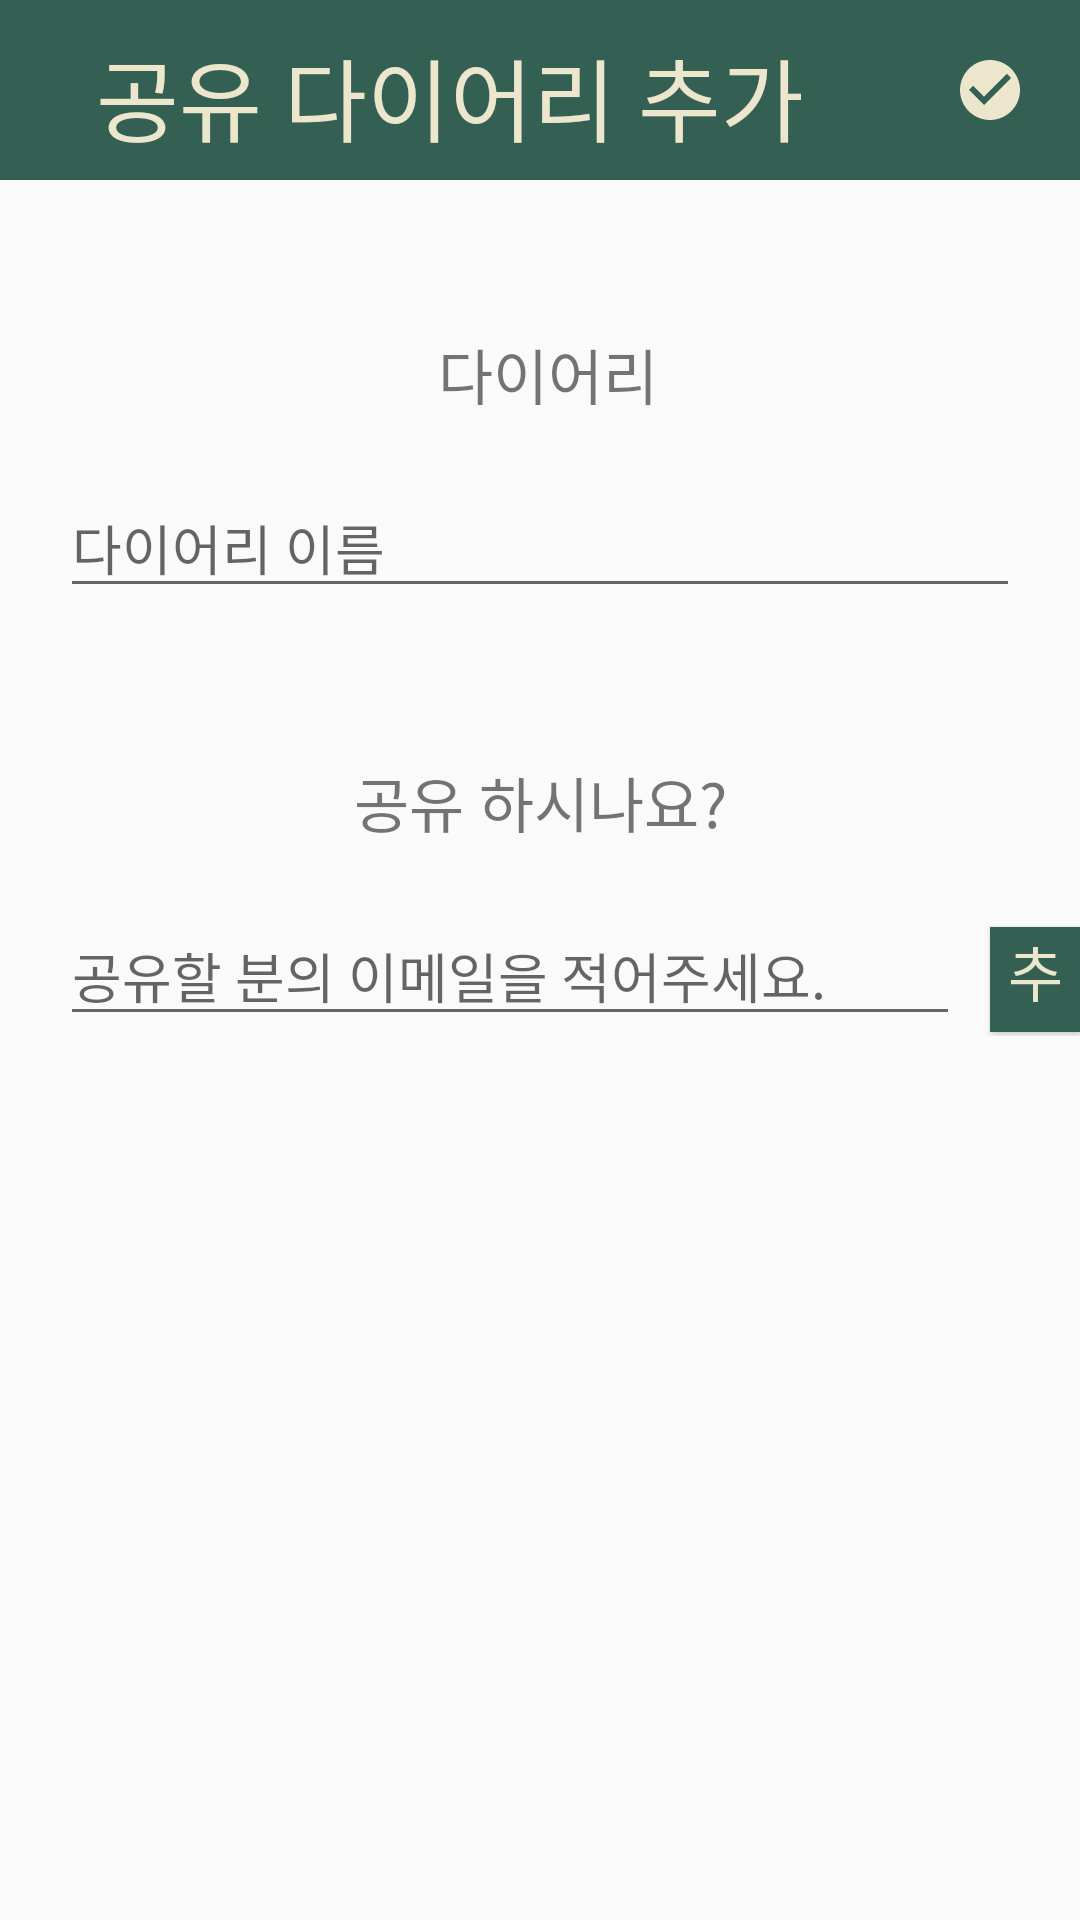

Named icons in this screenshot (1080x1920) and their centers, point (x, y):
check circle: point (990, 90)
